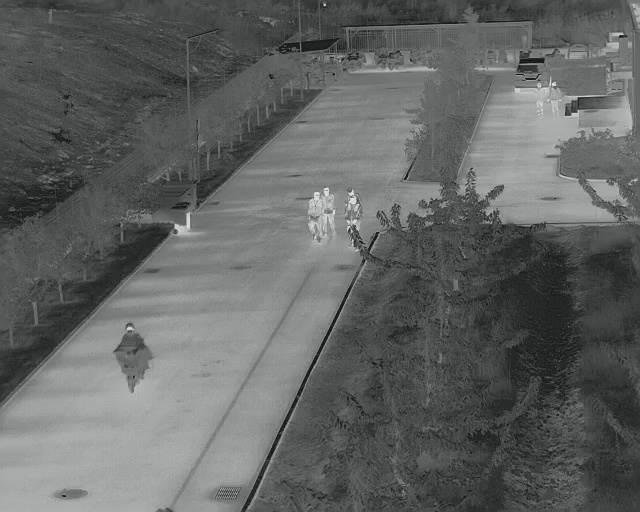NonMotorVehicle: (115, 322, 152, 392)
person: (320, 186, 336, 239), (343, 187, 362, 231), (306, 189, 321, 240), (548, 79, 560, 118), (534, 82, 546, 118)
vehicle: (512, 56, 551, 93)
